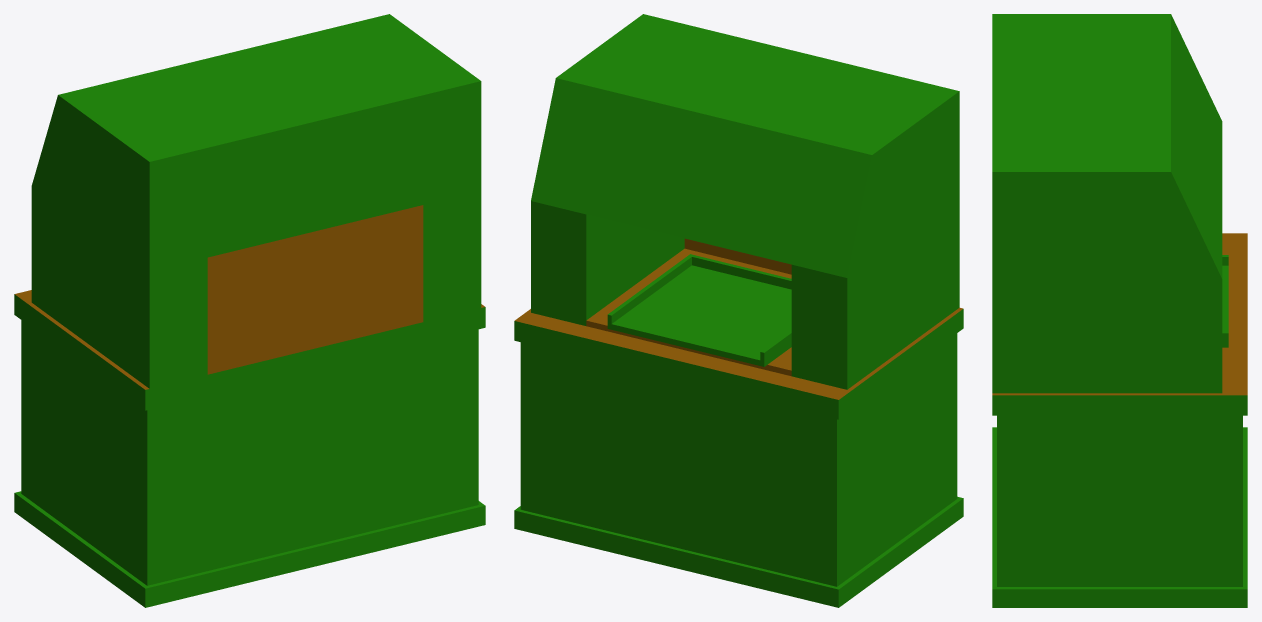
File: SM_LSP_Analyzer.fbx
3 renders of one model, left to right at view 1: azimuth 30°, elevation 25°; view 2: azimuth 150°, elevation 25°; view 3: azimuth 270°, elevation 25°, orthographic. The views are drawn at different scales.
Visible parts, largest first — view 1: SM_LSP_Analyzer; view 2: SM_LSP_Analyzer; view 3: SM_LSP_Analyzer.
Part boxes in pixels (left/top/right/bottom): SM_LSP_Analyzer: left=14, top=14, right=485, bottom=607; SM_LSP_Analyzer: left=514, top=14, right=963, bottom=607; SM_LSP_Analyzer: left=992, top=14, right=1247, bottom=607.
Size of what is drawn, in the model's own units: 120 by 80 by 150.
